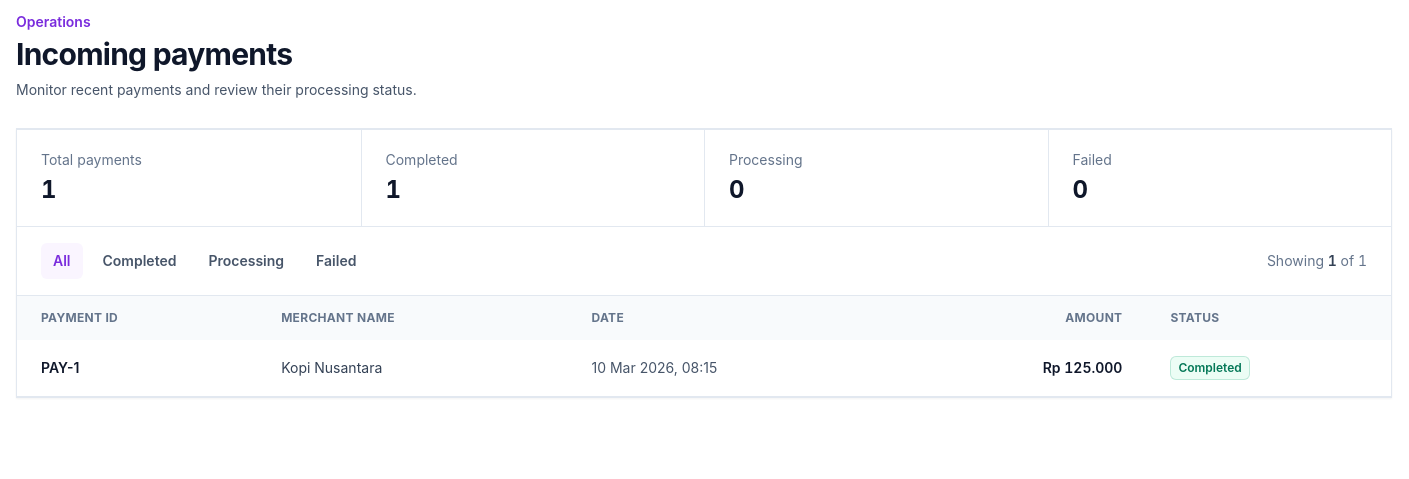
Scenario: DashboardPage › shows the filtered empty state without changing the summary
Expected: the text "PAY-1" is shown, 17,340 -> 257,396
Click the button "Failed". click: click(336, 261)
box: 304,243 -> 368,279
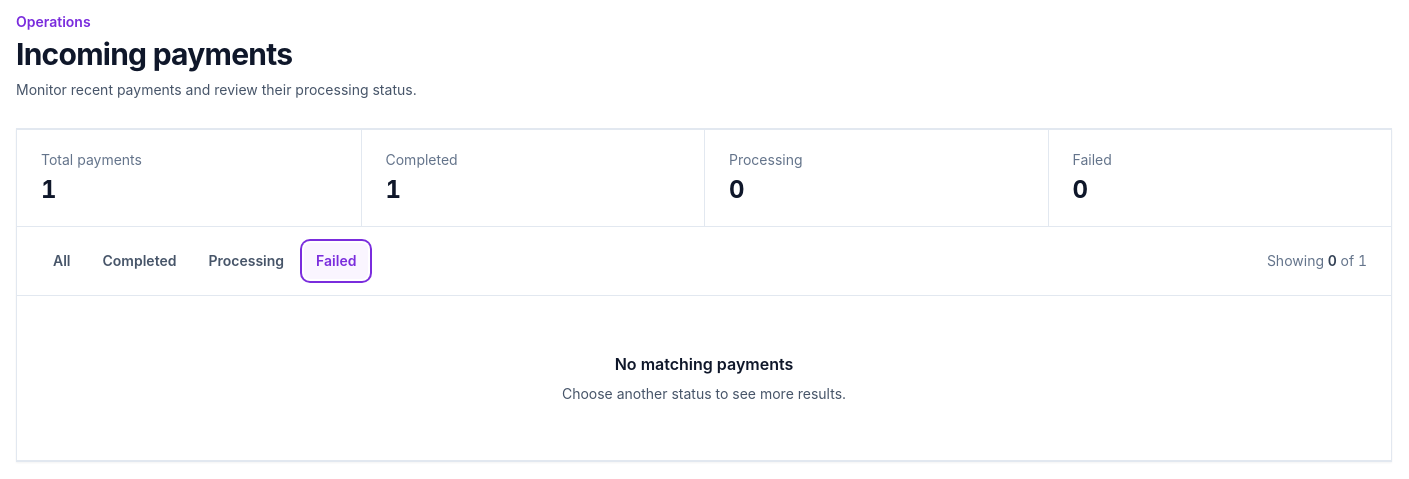
Expected: the text "1" below "Total payments" is shown, 41,175 -> 56,204
Expected: the heading "No matching payments" is shown, 615,354 -> 793,374
